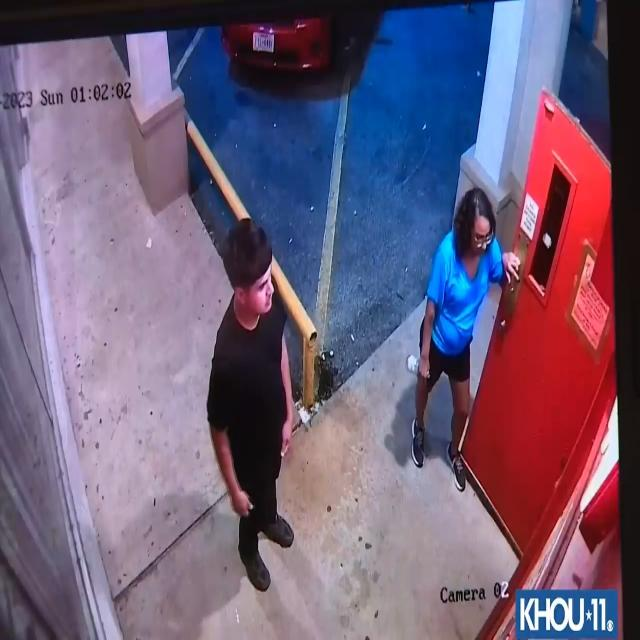Person: (206, 208, 298, 600), (411, 176, 520, 488)
